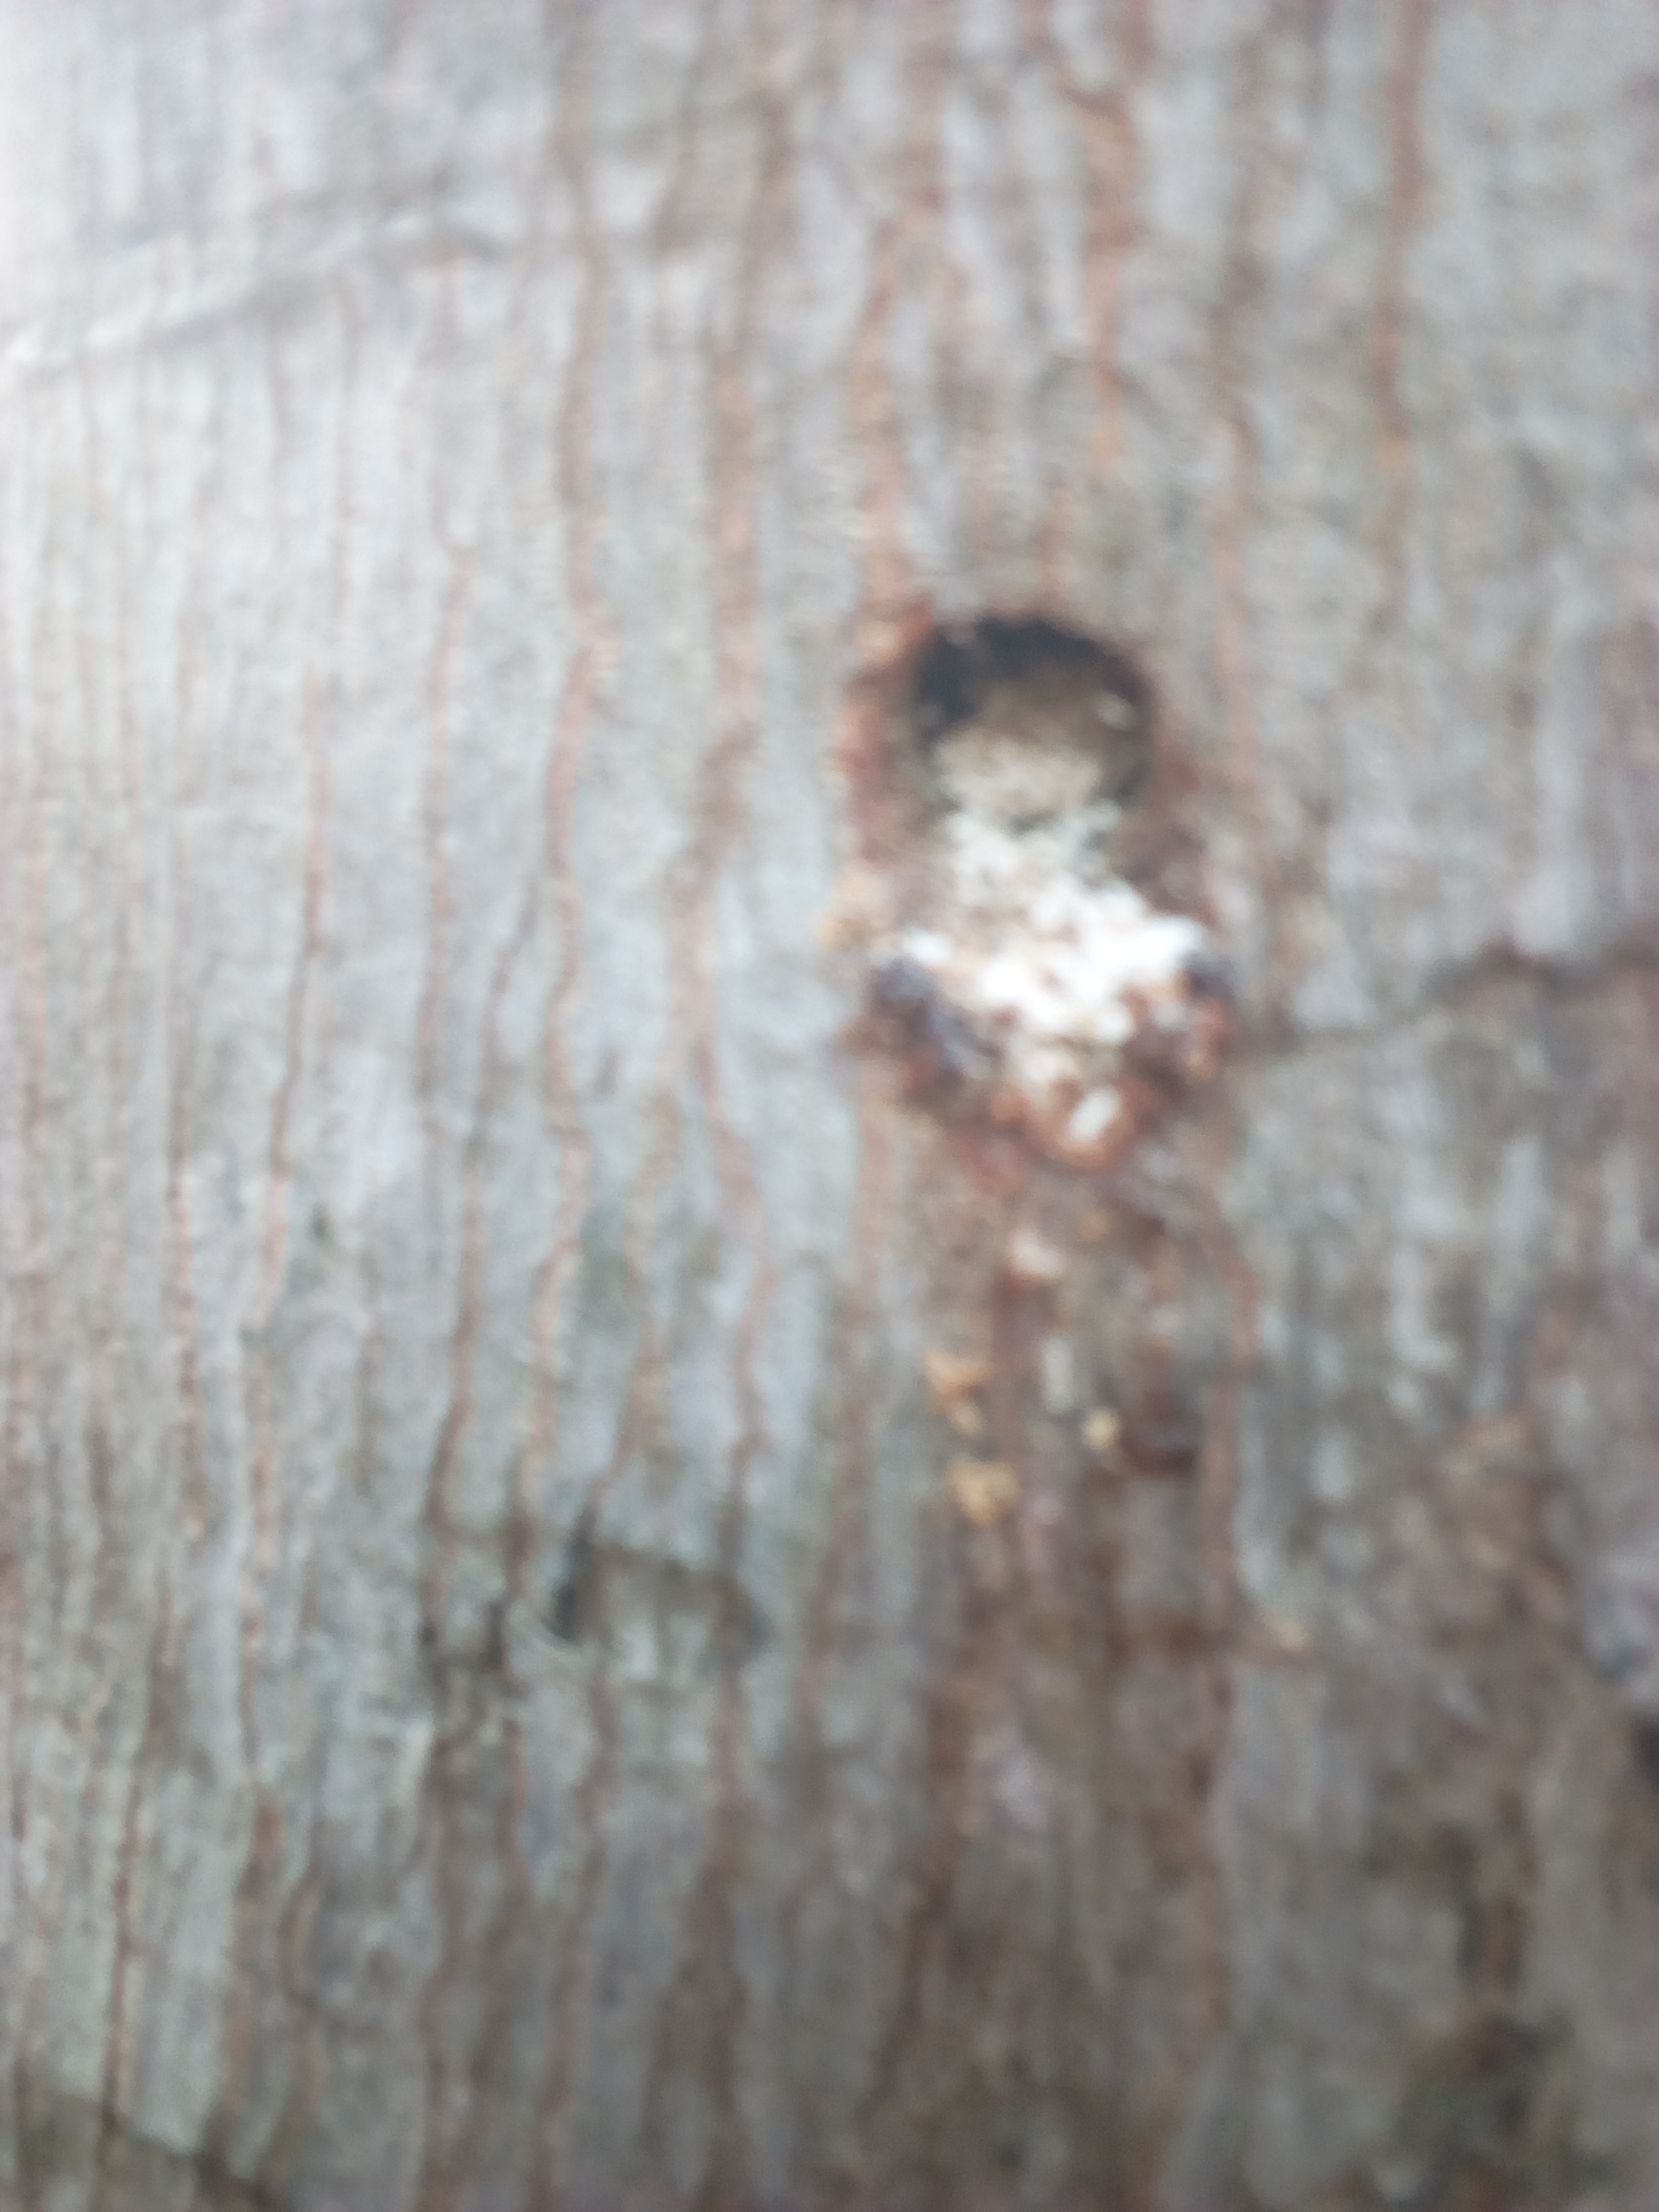Apate terebrans: (744, 578, 1307, 1123)
